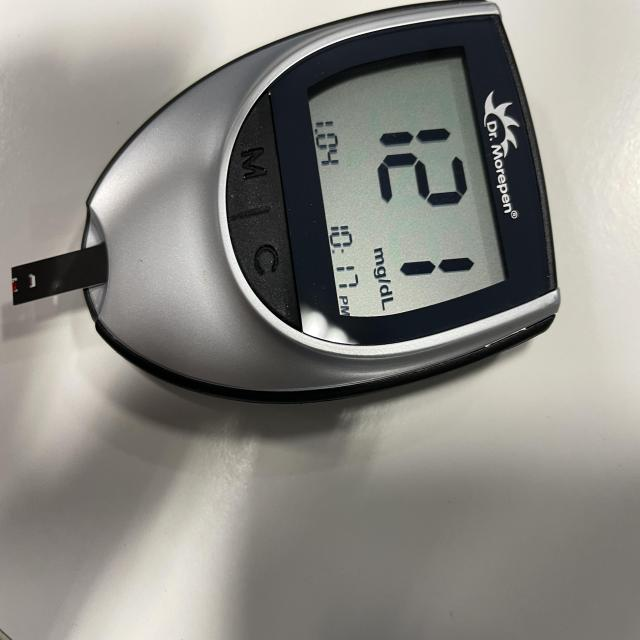gluco: (19, 0, 562, 406)
